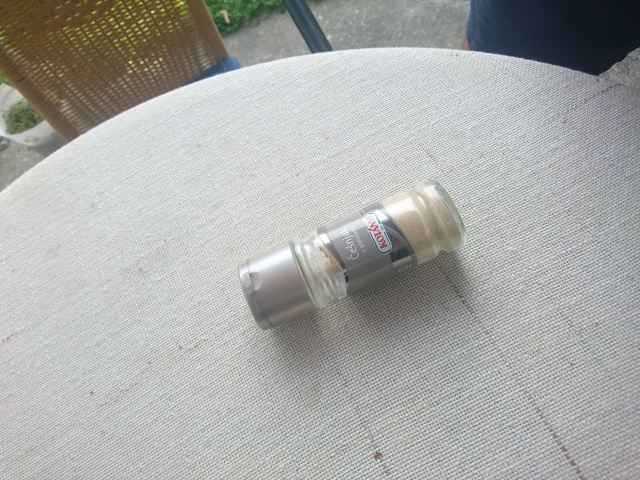Kotanyi Garlic Granules 70g: (234, 175, 469, 334)
